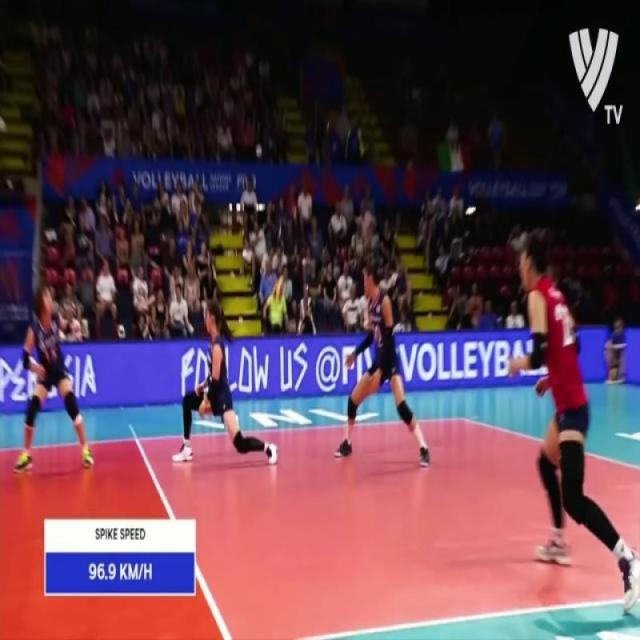volleyball: (274, 276, 287, 302)
